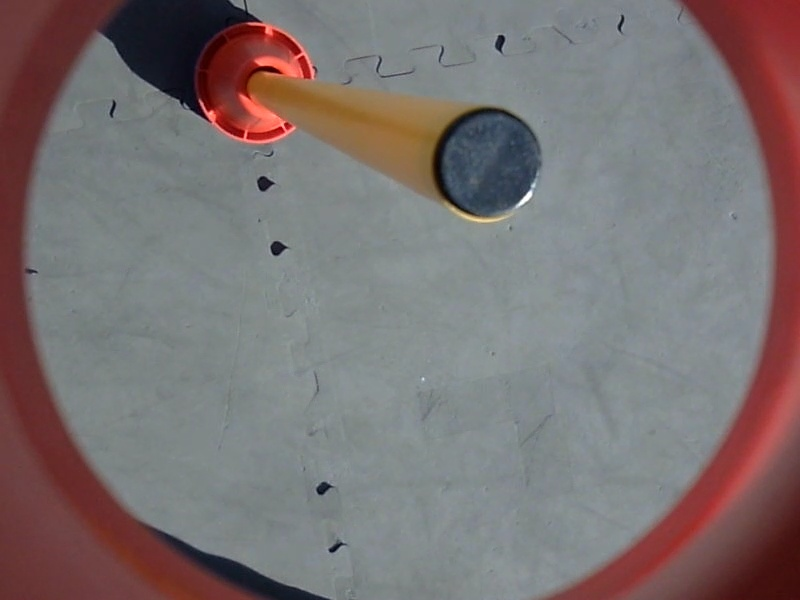tip: (420, 103, 550, 223)
